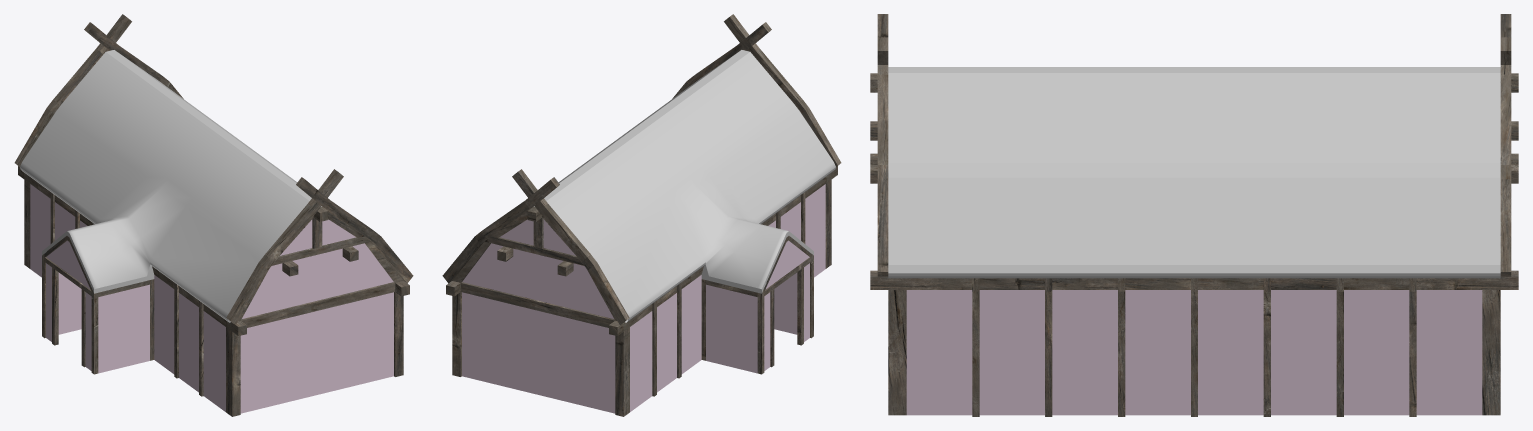
File: SM_Viking_hut_3.fbx
3 views of the same model, side by side, from view 1: azimuth 30°, elevation 25°; view 2: azimuth 150°, elevation 25°; view 3: azimuth 270°, elevation 25° (orthographic). The views are drawn at different scales.
Parts seen in each view (by area): view 1: Hut; view 2: Hut; view 3: Hut.
Part boxes in pixels (box(x1,y1,x2,y2)): Hut: box(14, 14, 413, 416); Hut: box(442, 14, 841, 416); Hut: box(870, 14, 1518, 416).
Size of the model in its own units: 554 by 497 by 890.
